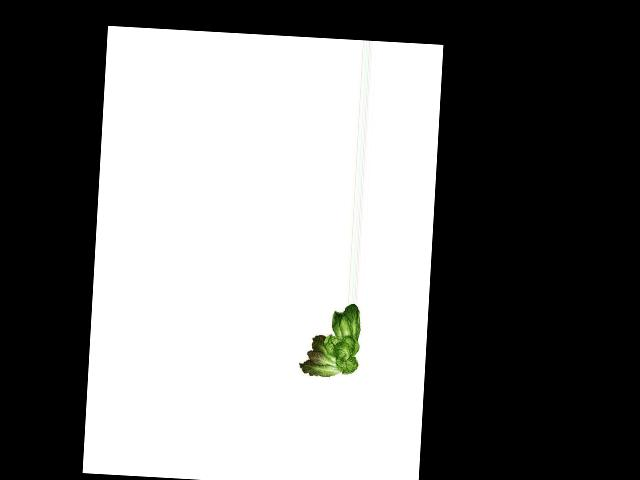lettuce: (294, 300, 365, 380)
